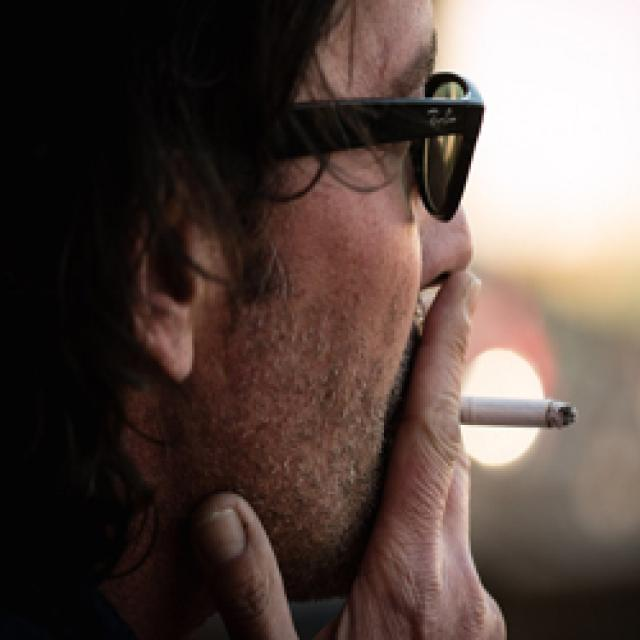Smooking: (450, 387, 588, 438)
